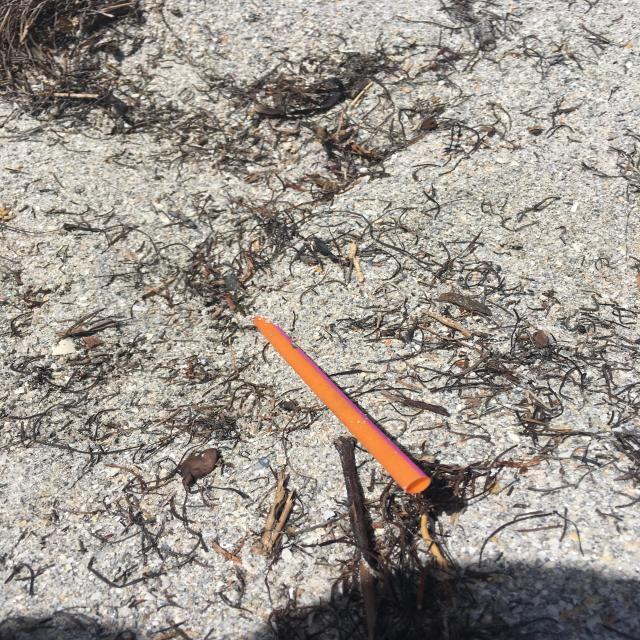litter: (421, 157, 640, 290)
